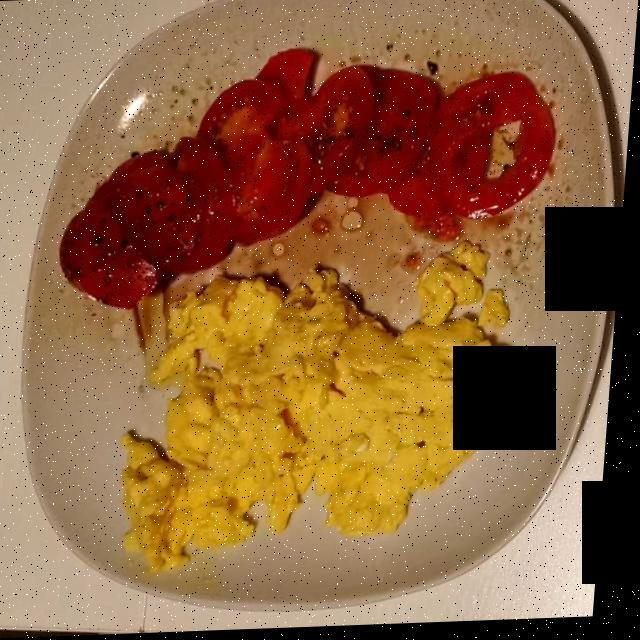eggs: (132, 281, 525, 564)
salad: (148, 32, 565, 307)
tomato: (55, 59, 568, 309)
